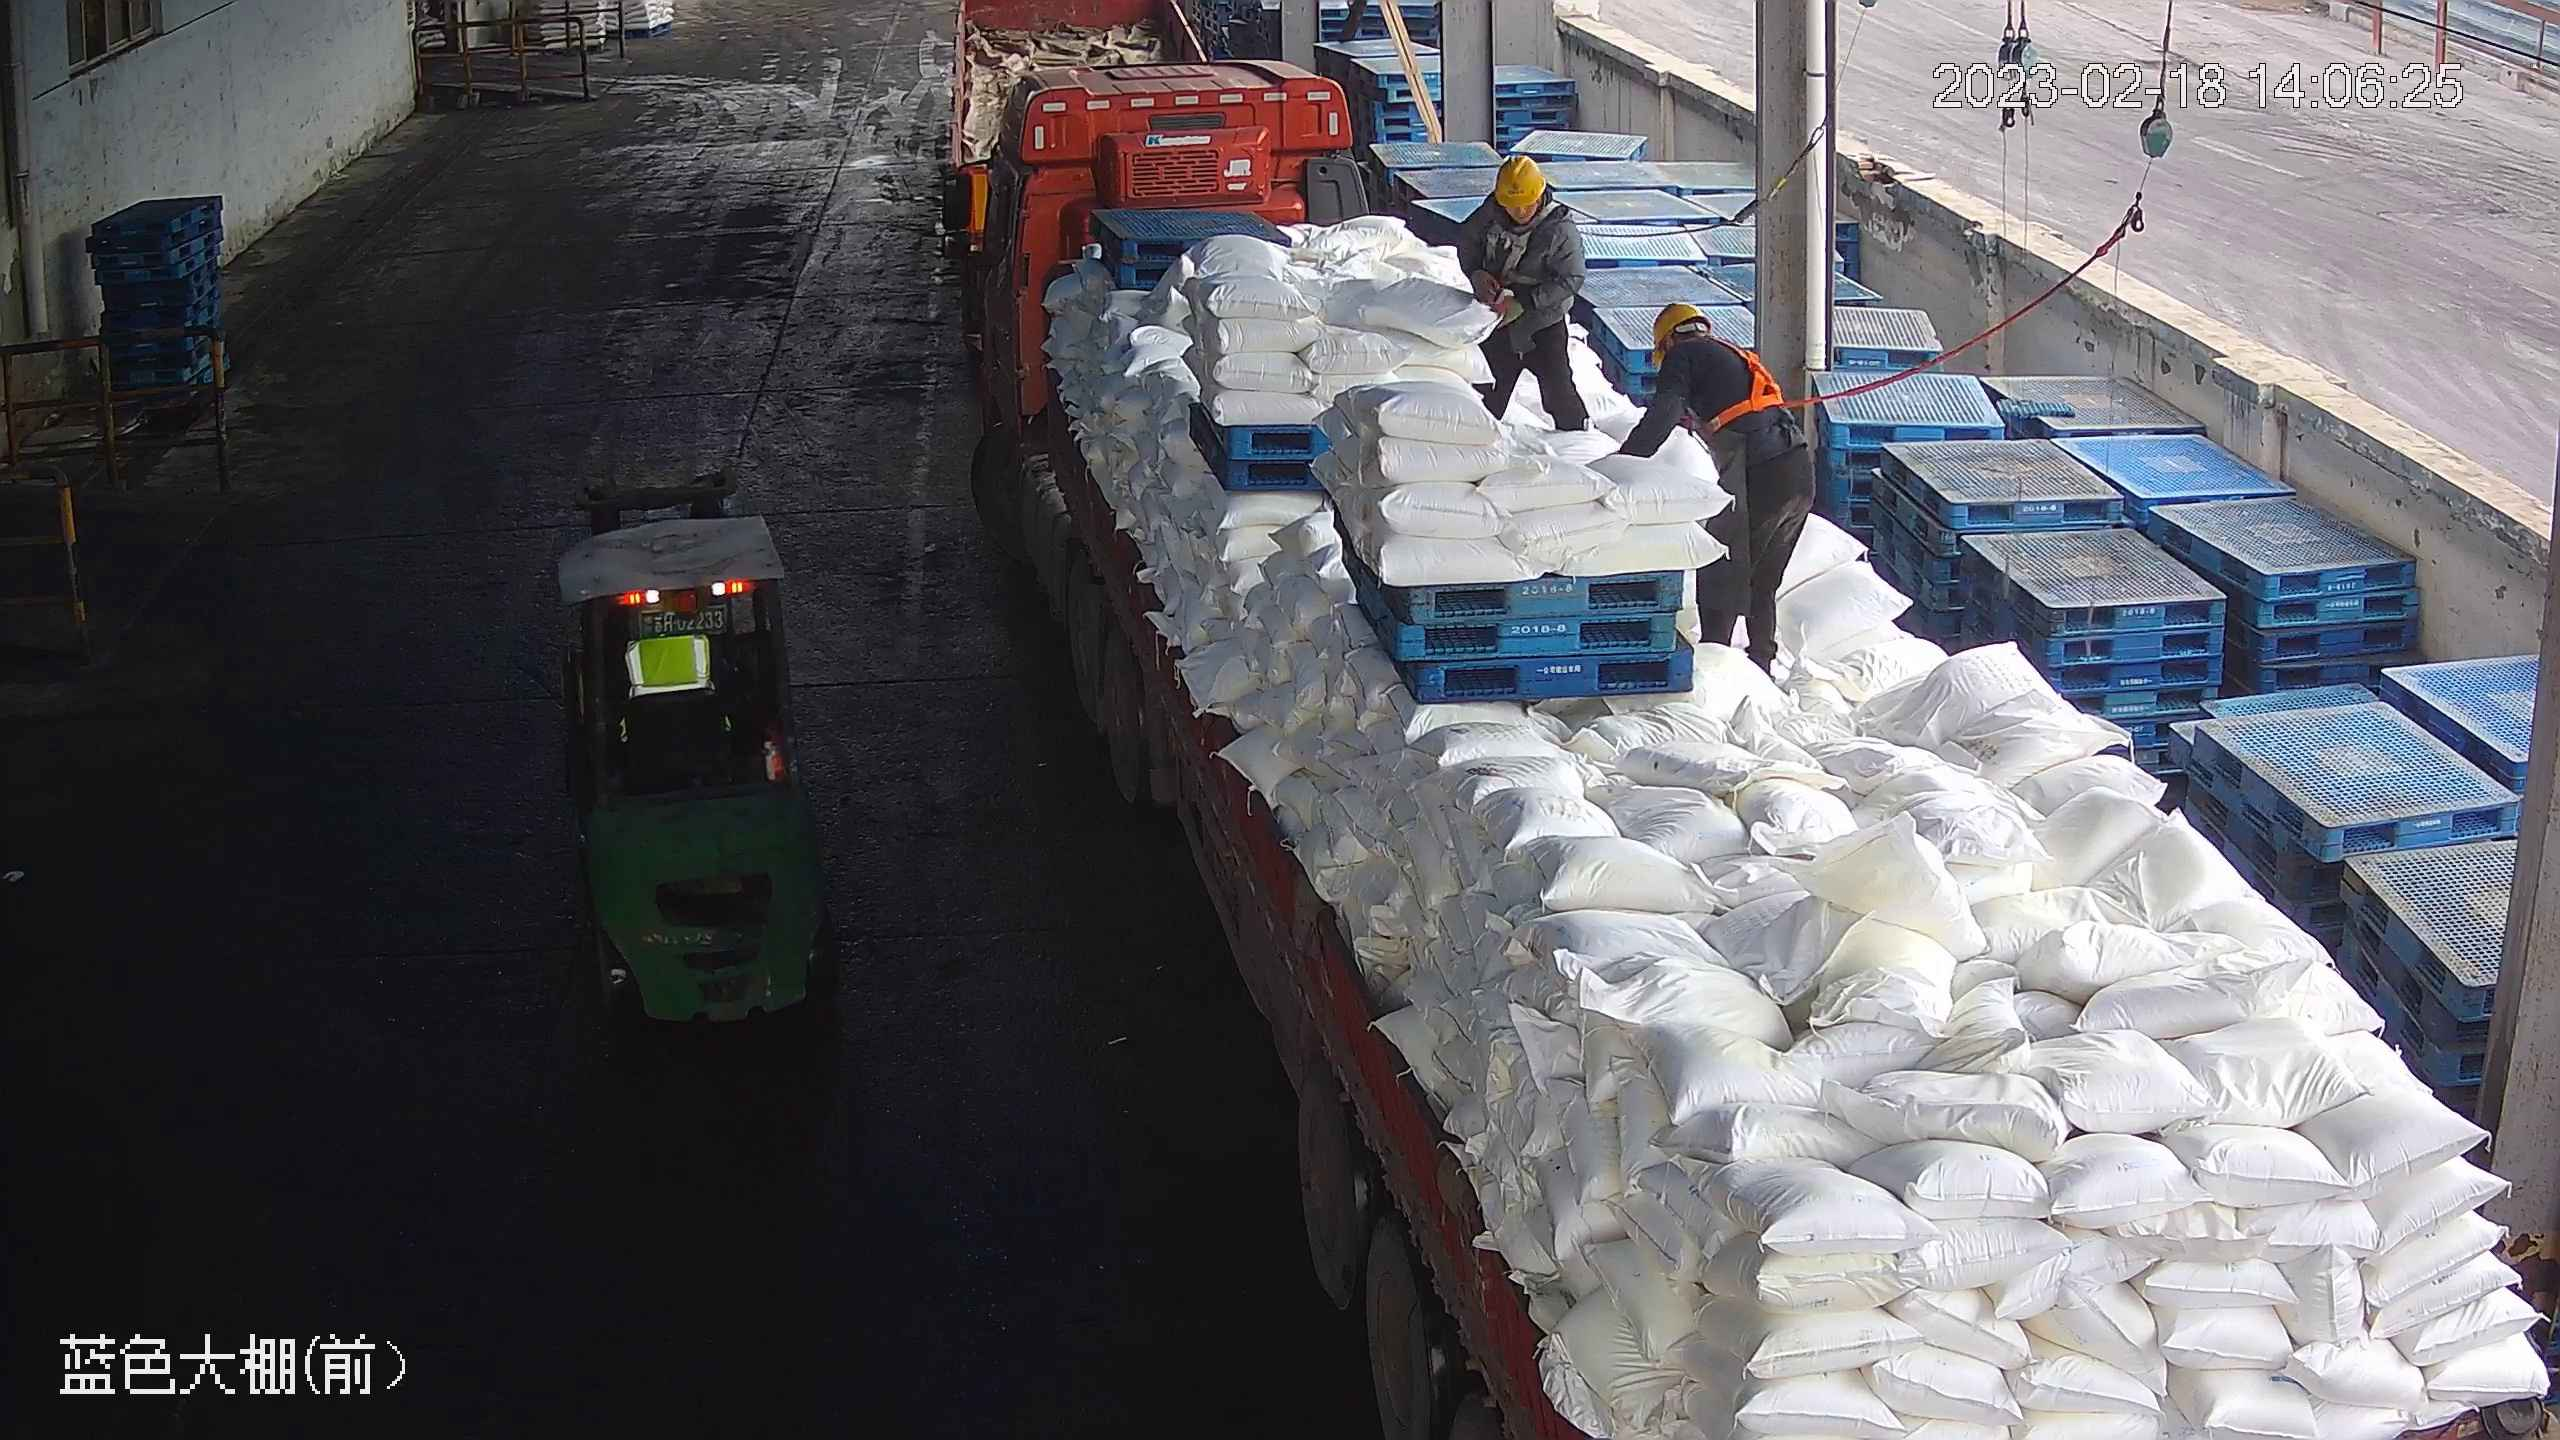belt: (1689, 330, 1788, 432), (1486, 198, 1563, 276)
head: (1648, 301, 1770, 393), (1471, 153, 1575, 242)
helmet: (1649, 300, 1710, 358), (1492, 152, 1546, 210)
people: (1614, 295, 1810, 675), (1457, 154, 1592, 433)
truck: (953, 46, 2549, 1440)
